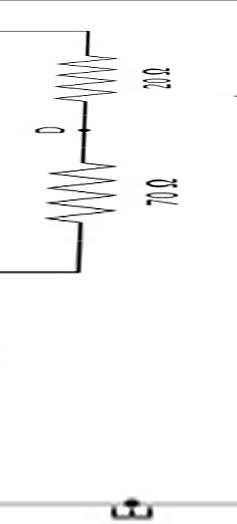resistor: (42, 148, 120, 228), (47, 39, 126, 102)
